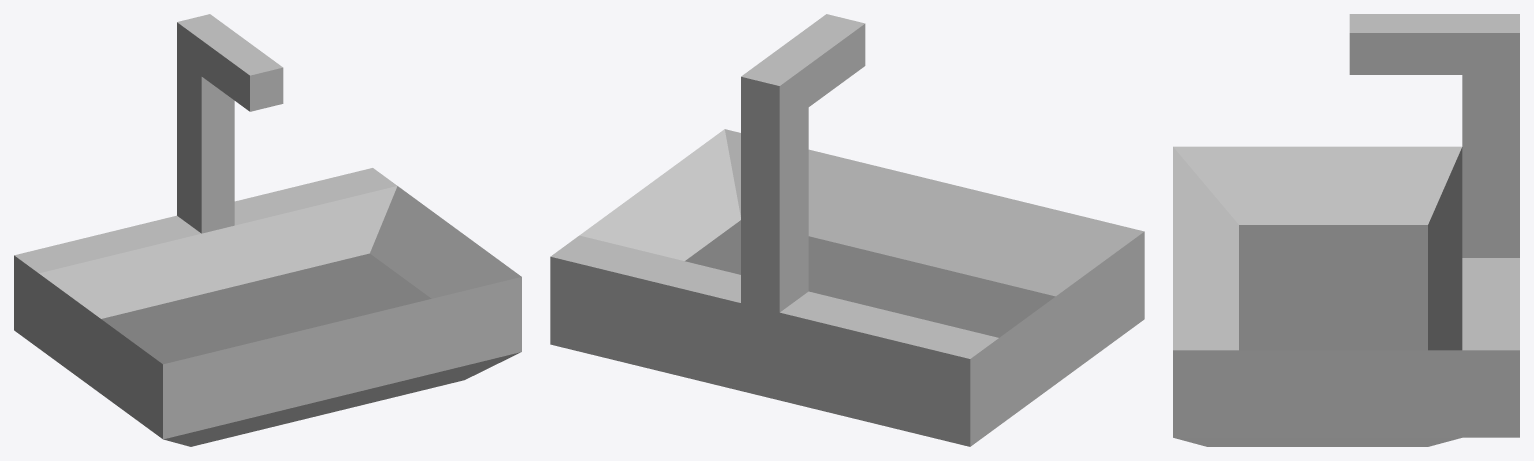
The model's file is sink.fbx.
3 views of the same model, side by side, from view 1: azimuth 30°, elevation 25°; view 2: azimuth 150°, elevation 25°; view 3: azimuth 270°, elevation 25° (orthographic). The views are drawn at different scales.
Parts seen in each view (by area): view 1: pCube1; view 2: pCube1; view 3: pCube1.
Boxes of the visible parts, x1,y1,x2,y2 form: pCube1: (14,14,521,446); pCube1: (550,14,1144,446); pCube1: (1173,14,1519,446).
Bounding box in the file's own units: 6.25 × 4.95 × 4.5.
1 material, 1 textured.
